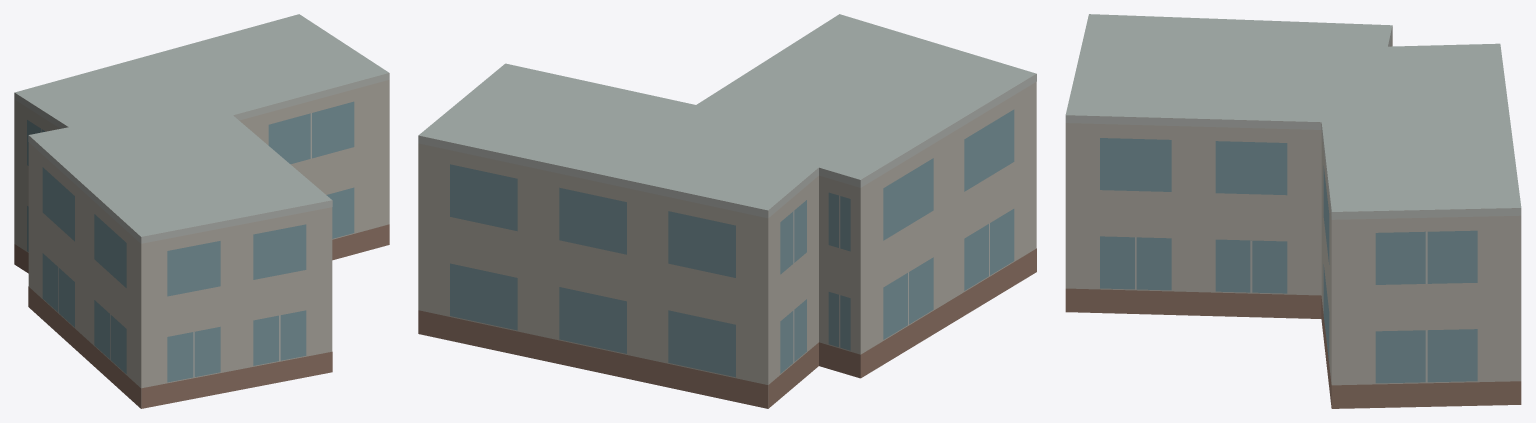
File: survey-upis-32820068.glb
3 views of the same model, side by side, from view 1: azimuth 30°, elevation 25°; view 2: azimuth 150°, elevation 25°; view 3: azimuth 270°, elevation 25° (orthographic). The views are drawn at different scales.
Parts seen in each view (by area): view 1: survey-upis-32820068.tmp; view 2: survey-upis-32820068.tmp; view 3: survey-upis-32820068.tmp.
Part boxes in pixels (x1,y1,x2,y2): survey-upis-32820068.tmp: [14, 14, 389, 408]; survey-upis-32820068.tmp: [418, 14, 1036, 408]; survey-upis-32820068.tmp: [1065, 14, 1521, 408].
Bounding box in the file's own units: 13.17 × 6.1 × 12.82.
